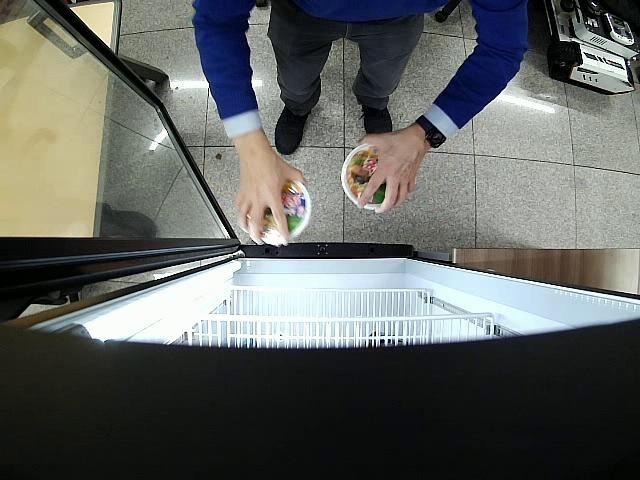09_yukGaeJang: (246, 180, 312, 244), (341, 142, 386, 209)
